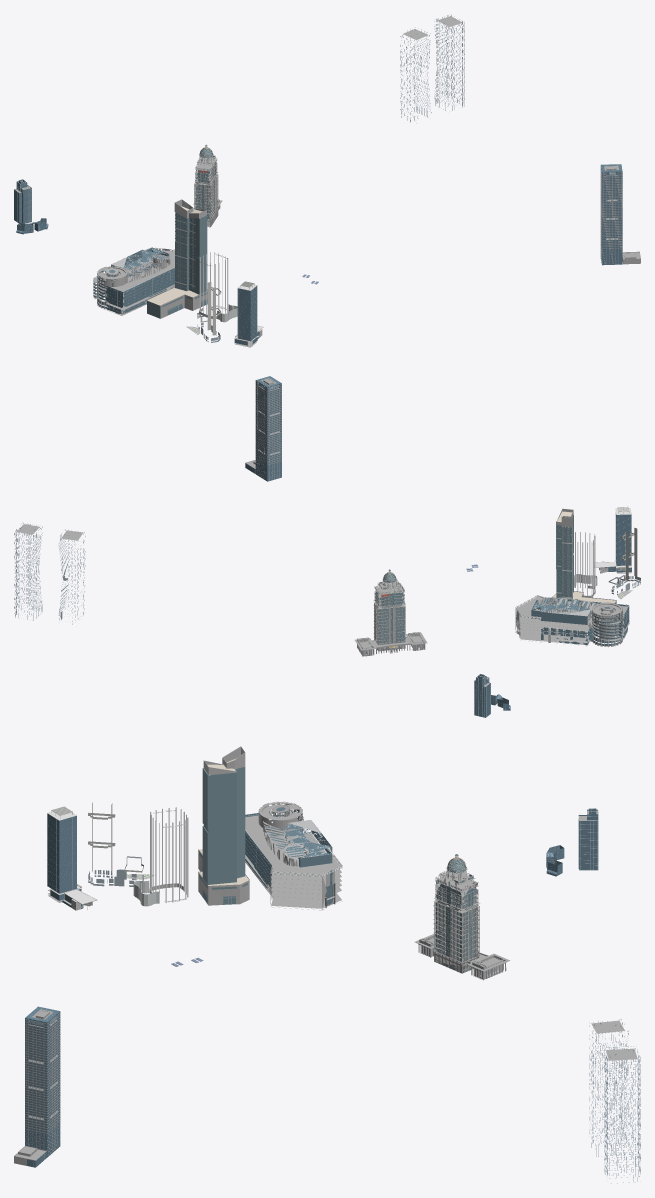
Rendered from lujiazui-5.glb.
3 renders of one model, top to bottom at view 1: azimuth 30°, elevation 25°; view 2: azimuth 150°, elevation 25°; view 3: azimuth 270°, elevation 25°, orthographic. The views are drawn at different scales.
Visible parts, largest first — view 1: source_2944_Mat3d66-1303573-2163-2213_part0, source_2902_Mat3d66-1303573-2170-3213_part0, source_2926_Mat3d66-1303573-2120-8235_part0, source_2892_Mat3d66-1303573-2119-613_part0, source_2895_Mat3d66-1303573-2153-4388_part0, source_2918_Mat3d66-1303573-2120-8235_part0, source_2942_Mat3d66-1303573-2037-4870_part0, source_2916_Mat3d66-1303573-2170-3213_part0, source_2931_Mat3d66-1303573-2035-4469_part0, source_2945_Mat3d66-1303573-2153-4388_part0, source_2909_Mat3d66-1303573-2170-3213_part0, source_2930_Mat3d66-1303573-2120-8235_part0 (+4 smaller); view 2: source_2902_Mat3d66-1303573-2170-3213_part0, source_2945_Mat3d66-1303573-2153-4388_part0, source_2895_Mat3d66-1303573-2153-4388_part0, source_2944_Mat3d66-1303573-2163-2213_part0, source_2892_Mat3d66-1303573-2119-613_part0, source_2931_Mat3d66-1303573-2035-4469_part0, source_2942_Mat3d66-1303573-2037-4870_part0, source_2930_Mat3d66-1303573-2120-8235_part0, source_2926_Mat3d66-1303573-2120-8235_part0, source_2909_Mat3d66-1303573-2170-3213_part0, source_2916_Mat3d66-1303573-2170-3213_part0, source_2931_Mat3d66-1303573-2035-4469_part1 (+6 smaller); view 3: source_2902_Mat3d66-1303573-2170-3213_part0, source_2926_Mat3d66-1303573-2120-8235_part0, source_2945_Mat3d66-1303573-2153-4388_part0, source_2895_Mat3d66-1303573-2153-4388_part0, source_2931_Mat3d66-1303573-2035-4469_part0, source_2892_Mat3d66-1303573-2119-613_part0, source_2930_Mat3d66-1303573-2120-8235_part0, source_2916_Mat3d66-1303573-2170-3213_part0, source_2942_Mat3d66-1303573-2037-4870_part0, source_2955_未来资产大厦_柱_part0, source_2944_Mat3d66-1303573-2163-2213_part0, source_2909_Mat3d66-1303573-2170-3213_part0 (+9 smaller).
Part boxes in pixels (bbox=[...]): source_2944_Mat3d66-1303573-2163-2213_part0: bbox=[93, 248, 174, 314]; source_2902_Mat3d66-1303573-2170-3213_part0: bbox=[601, 164, 622, 265]; source_2926_Mat3d66-1303573-2120-8235_part0: bbox=[147, 212, 207, 318]; source_2892_Mat3d66-1303573-2119-613_part0: bbox=[400, 15, 464, 123]; source_2895_Mat3d66-1303573-2153-4388_part0: bbox=[600, 166, 640, 264]; source_2918_Mat3d66-1303573-2120-8235_part0: bbox=[175, 215, 207, 294]; source_2942_Mat3d66-1303573-2037-4870_part0: bbox=[97, 247, 174, 315]; source_2916_Mat3d66-1303573-2170-3213_part0: bbox=[234, 285, 259, 345]; source_2931_Mat3d66-1303573-2035-4469_part0: bbox=[194, 152, 218, 220]; source_2945_Mat3d66-1303573-2153-4388_part0: bbox=[93, 250, 174, 307]; source_2909_Mat3d66-1303573-2170-3213_part0: bbox=[14, 179, 48, 234]; source_2930_Mat3d66-1303573-2120-8235_part0: bbox=[195, 145, 216, 222]; source_2902_Mat3d66-1303573-2170-3213_part0: bbox=[245, 376, 281, 481]; source_2945_Mat3d66-1303573-2153-4388_part0: bbox=[515, 597, 627, 644]; source_2895_Mat3d66-1303573-2153-4388_part0: bbox=[245, 381, 281, 480]; source_2944_Mat3d66-1303573-2163-2213_part0: bbox=[517, 597, 628, 645]; source_2892_Mat3d66-1303573-2119-613_part0: bbox=[14, 523, 85, 624]; source_2931_Mat3d66-1303573-2035-4469_part0: bbox=[373, 579, 405, 644]; source_2942_Mat3d66-1303573-2037-4870_part0: bbox=[515, 595, 629, 646]; source_2930_Mat3d66-1303573-2120-8235_part0: bbox=[366, 570, 419, 655]; source_2926_Mat3d66-1303573-2120-8235_part0: bbox=[556, 521, 616, 603]; source_2909_Mat3d66-1303573-2170-3213_part0: bbox=[474, 674, 510, 717]; source_2916_Mat3d66-1303573-2170-3213_part0: bbox=[605, 514, 631, 572]; source_2931_Mat3d66-1303573-2035-4469_part1: bbox=[355, 581, 427, 656]; source_2902_Mat3d66-1303573-2170-3213_part0: bbox=[25, 1006, 60, 1167]; source_2926_Mat3d66-1303573-2120-8235_part0: bbox=[199, 766, 247, 904]; source_2945_Mat3d66-1303573-2153-4388_part0: bbox=[245, 802, 341, 908]; source_2895_Mat3d66-1303573-2153-4388_part0: bbox=[14, 1012, 60, 1165]; source_2931_Mat3d66-1303573-2035-4469_part0: bbox=[433, 865, 479, 963]; source_2892_Mat3d66-1303573-2119-613_part0: bbox=[589, 1019, 640, 1183]; source_2930_Mat3d66-1303573-2120-8235_part0: bbox=[424, 854, 495, 975]; source_2916_Mat3d66-1303573-2170-3213_part0: bbox=[47, 813, 82, 908]; source_2942_Mat3d66-1303573-2037-4870_part0: bbox=[245, 801, 342, 910]; source_2955_未来资产大厦_柱_part0: bbox=[134, 807, 188, 902]; source_2944_Mat3d66-1303573-2163-2213_part0: bbox=[245, 807, 333, 905]; source_2909_Mat3d66-1303573-2170-3213_part0: bbox=[546, 808, 598, 876].
Bounding box in the file's own units: 1200 × 237 × 935.
